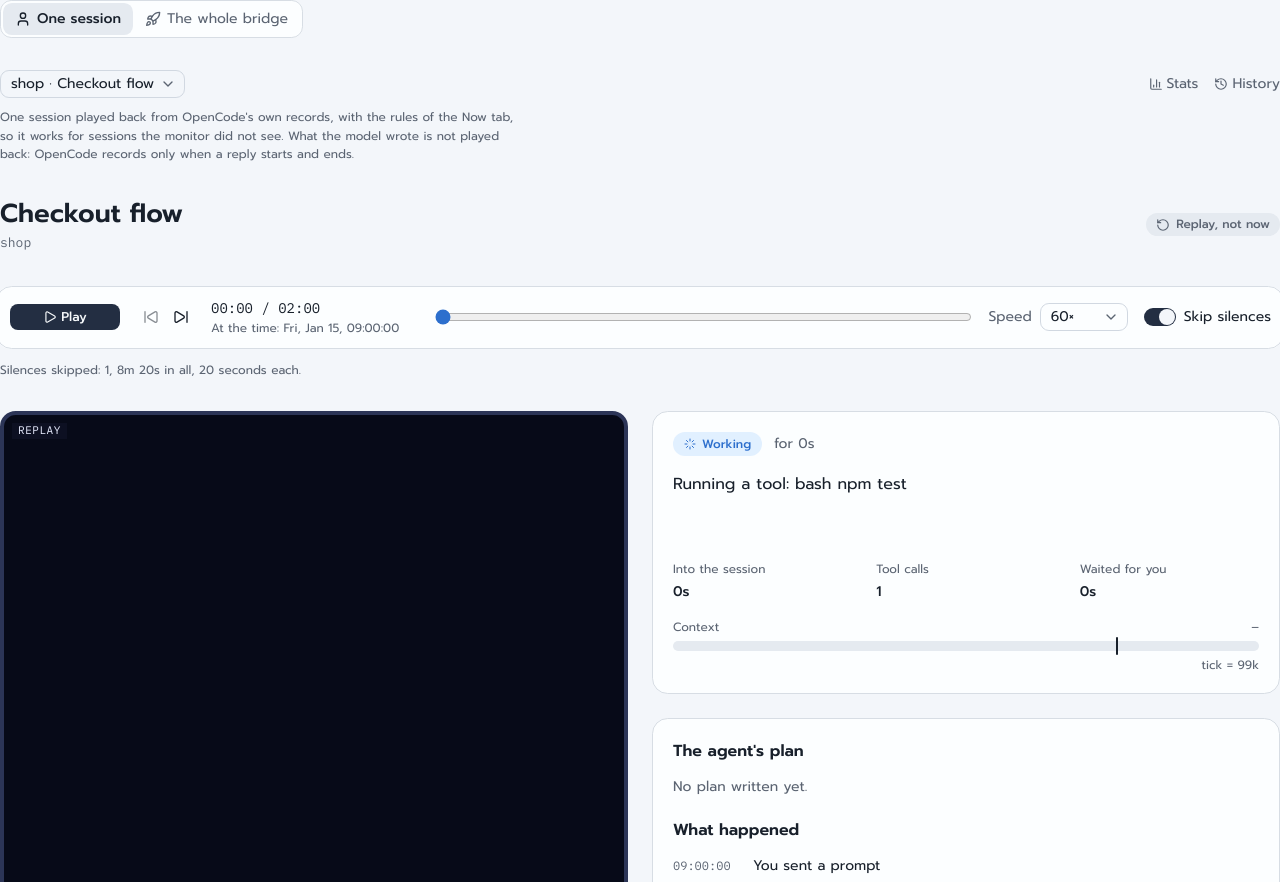
Test: The whole bridge, played back › steps between the turns of the day, and a station leads to its session's own replay
Step 1. Click the button "The whole bridge" → (217,19), box x1=133 y1=3 x2=300 y2=35
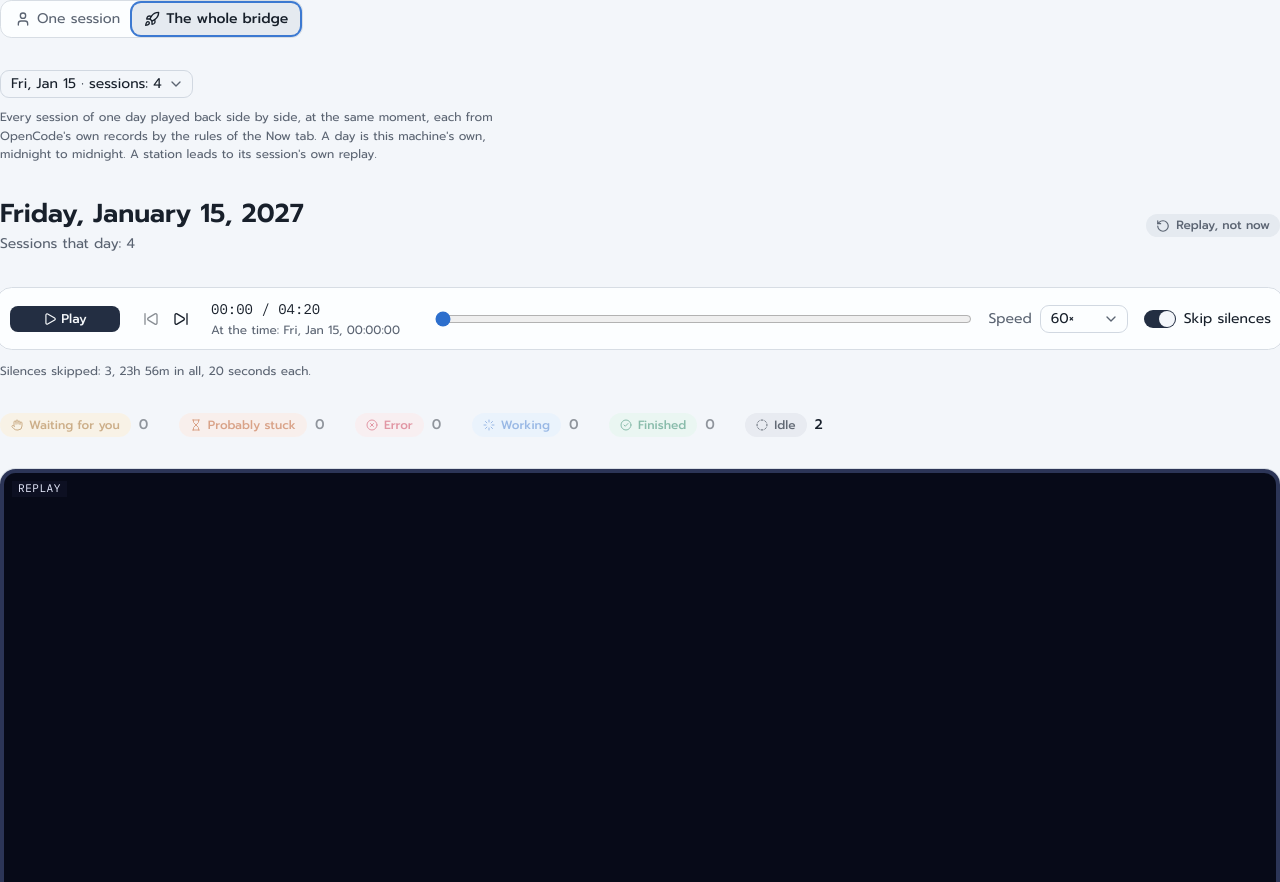
Expected: the heading "Friday, January 15, 2027" is shown, x1=0 y1=196 x2=304 y2=231
Step 2. Click the button named "On to what happens next" → (181,319), box x1=167 y1=305 x2=195 y2=333
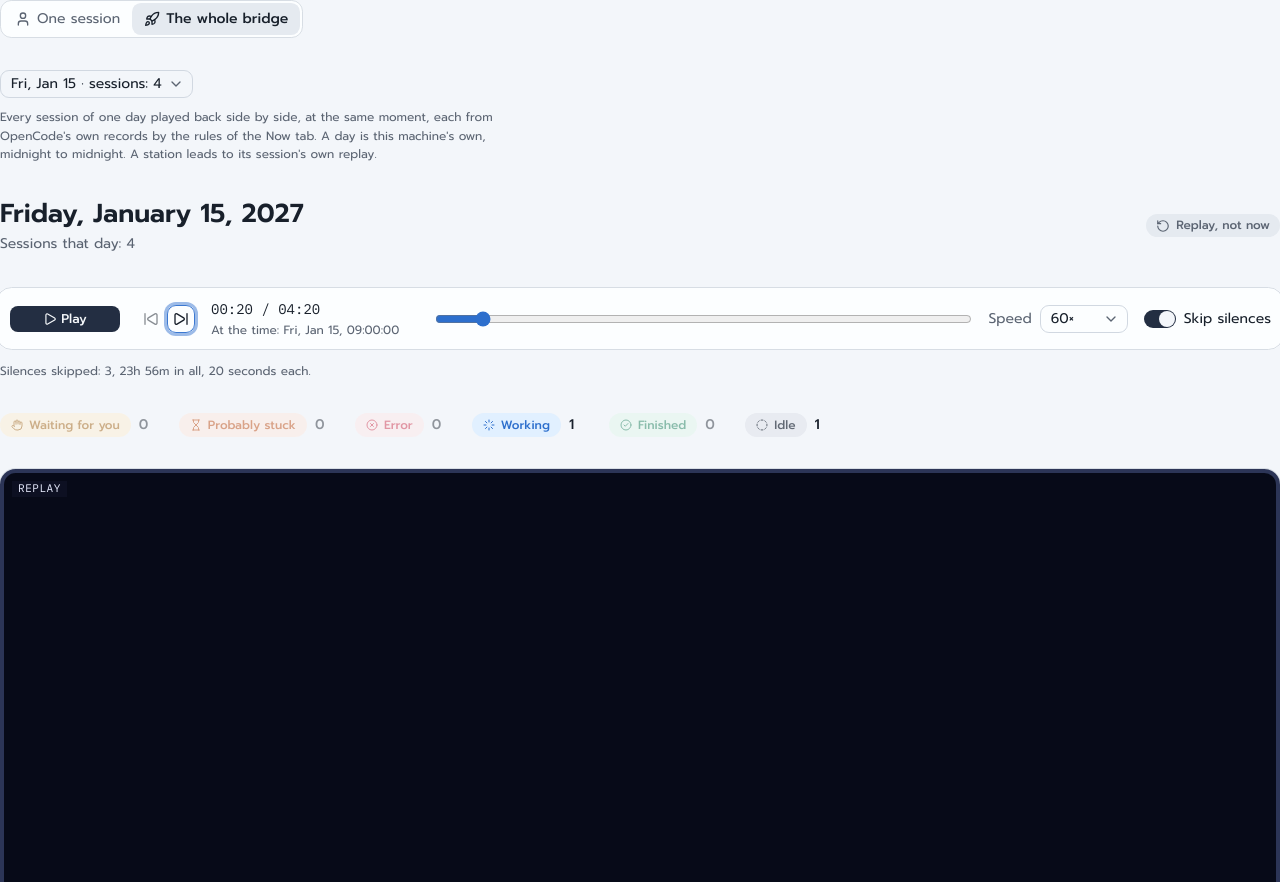
Step 3. Click the button named "On to what happens next" → (181,319), box x1=167 y1=305 x2=195 y2=333
(page scrolled)
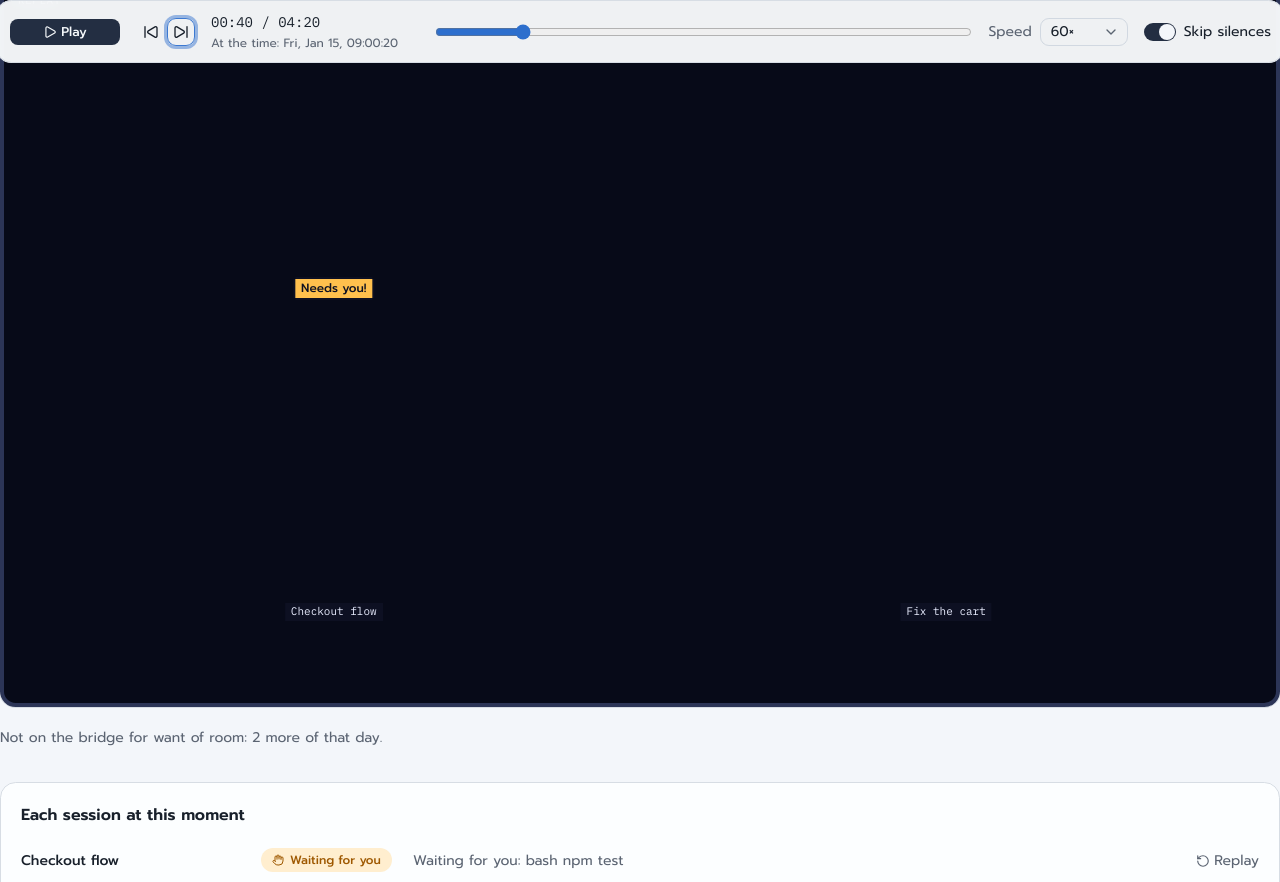
Expected: the list item that starts with "Checkout flow" shows "Waiting for you", x1=290 y1=851 x2=381 y2=869
Step 4. Click the button "Fix the cart" → (946,450), box x1=687 y1=279 x2=1205 y2=621
(page scrolled)
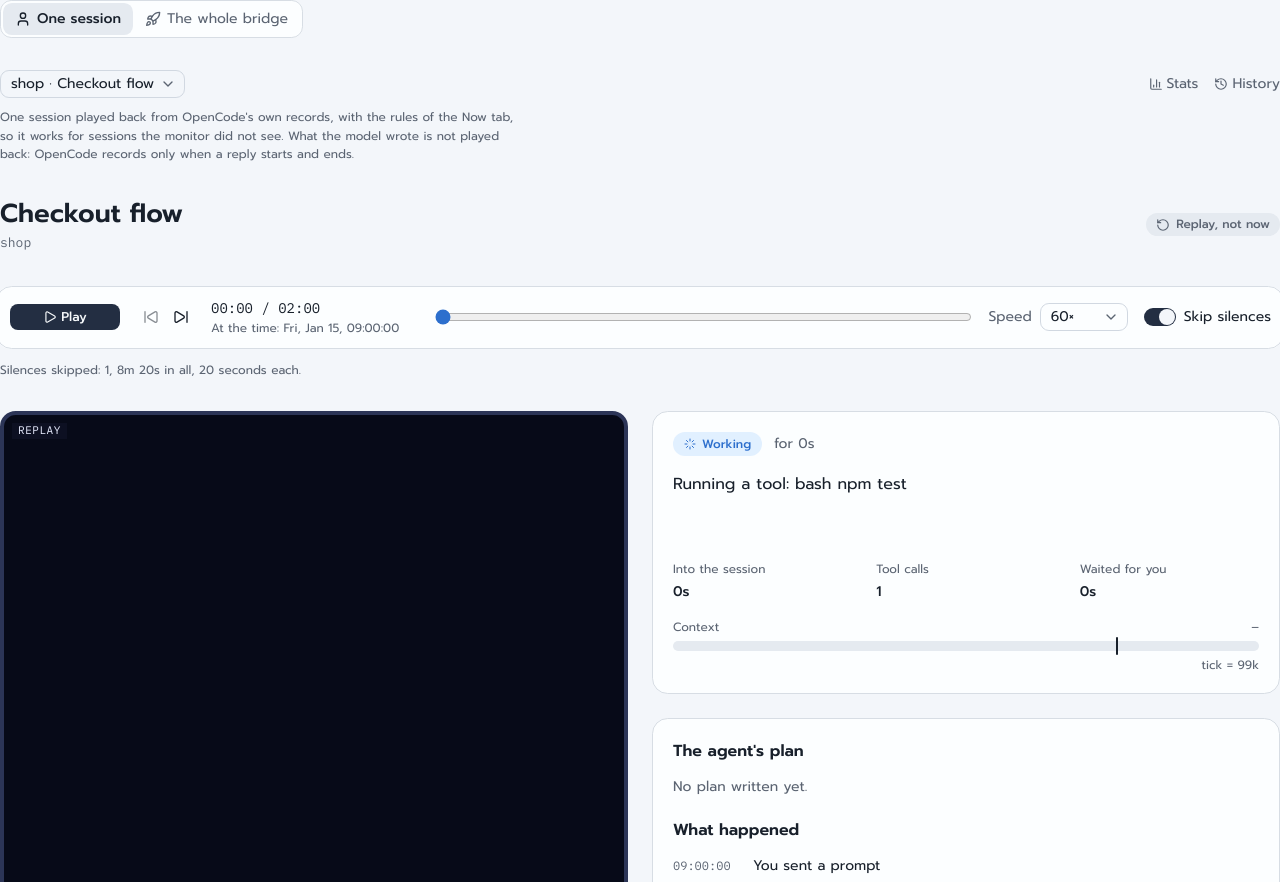
Expected: the heading "Checkout flow" is shown, x1=0 y1=196 x2=183 y2=231
